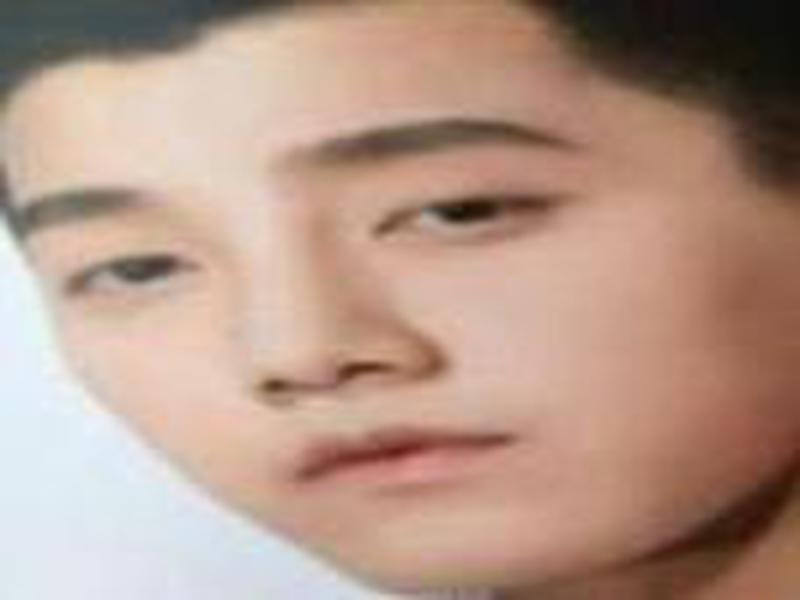without_mask: (1, 53, 800, 600)
